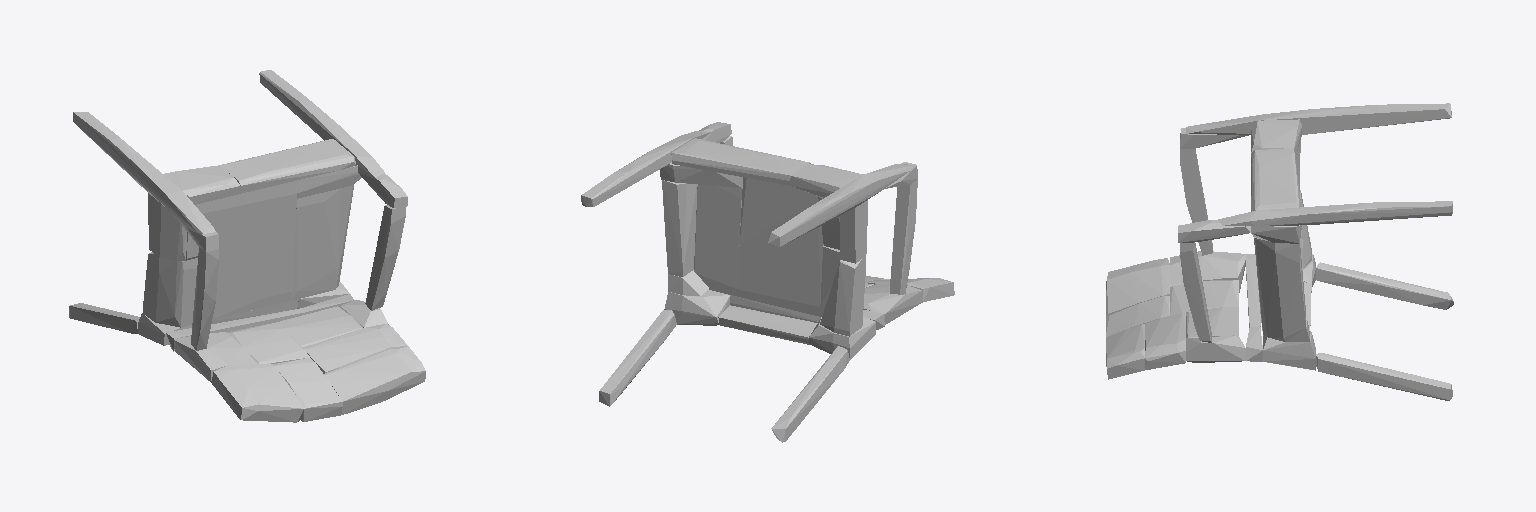
The picture shows the model from 3 angles: view 1: azimuth 30°, elevation 25°; view 2: azimuth 150°, elevation 25°; view 3: azimuth 270°, elevation 25°; orthographic projection.
Parts seen in each view (by area): view 1: convex_17, convex_24, convex_16, convex_11, convex_3, convex_1, convex_4, convex_15, convex_31, convex_12, convex_19, convex_10 (+14 smaller); view 2: convex_17, convex_24, convex_3, convex_1, convex_7, convex_30, convex_4, convex_6, convex_0, convex_25, convex_28, convex_22 (+9 smaller); view 3: convex_1, convex_7, convex_4, convex_3, convex_6, convex_0, convex_11, convex_15, convex_16, convex_19, convex_9, convex_25 (+11 smaller).
Boxes of the visible parts, <box> form: convex_17: <box>212,181,296,319</box>; convex_24: <box>292,188,340,299</box>; convex_16: <box>324,346,425,414</box>; convex_11: <box>211,363,303,422</box>; convex_3: <box>219,139,356,193</box>; convex_1: <box>73,112,215,233</box>; convex_4: <box>259,70,384,177</box>; convex_15: <box>303,324,407,373</box>; convex_31: <box>156,255,197,327</box>; convex_12: <box>272,358,342,421</box>; convex_19: <box>365,205,405,310</box>; convex_10: <box>226,323,309,363</box>; convex_17: <box>738,177,823,316</box>; convex_24: <box>694,184,742,296</box>; convex_3: <box>671,138,810,185</box>; convex_1: <box>768,164,914,246</box>; convex_7: <box>662,180,697,276</box>; convex_30: <box>820,259,861,336</box>; convex_4: <box>581,131,710,206</box>; convex_6: <box>599,310,676,406</box>; convex_0: <box>771,346,849,442</box>; convex_25: <box>890,179,917,294</box>; convex_28: <box>718,305,817,344</box>; convex_22: <box>664,290,730,325</box>; convex_1: <box>1186,103,1451,134</box>; convex_7: <box>1254,237,1305,341</box>; convex_4: <box>1218,201,1452,225</box>; convex_3: <box>1251,149,1300,211</box>; convex_6: <box>1316,353,1452,400</box>; convex_0: <box>1316,262,1453,309</box>; convex_11: <box>1106,258,1169,315</box>; convex_15: <box>1145,313,1185,369</box>; convex_16: <box>1106,324,1144,379</box>; convex_19: <box>1180,242,1211,342</box>; convex_9: <box>1170,251,1245,292</box>; convex_25: <box>1180,149,1212,255</box>.
Bounding box in the file's own units: 0.5729 × 0.5631 × 0.8479.